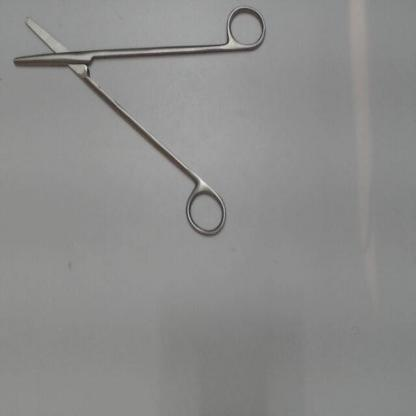9 Metzenbaum Scissors: (10, 1, 271, 245)
